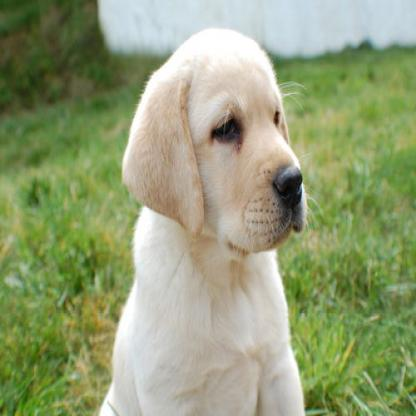Labarador Retriever: (100, 36, 309, 416)
